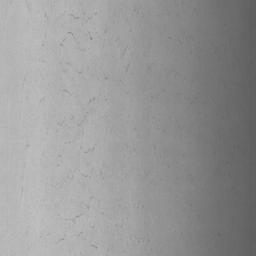Silk spot: (51, 163, 104, 188), (47, 108, 88, 134), (70, 196, 94, 224), (88, 28, 107, 48), (70, 12, 97, 25)
